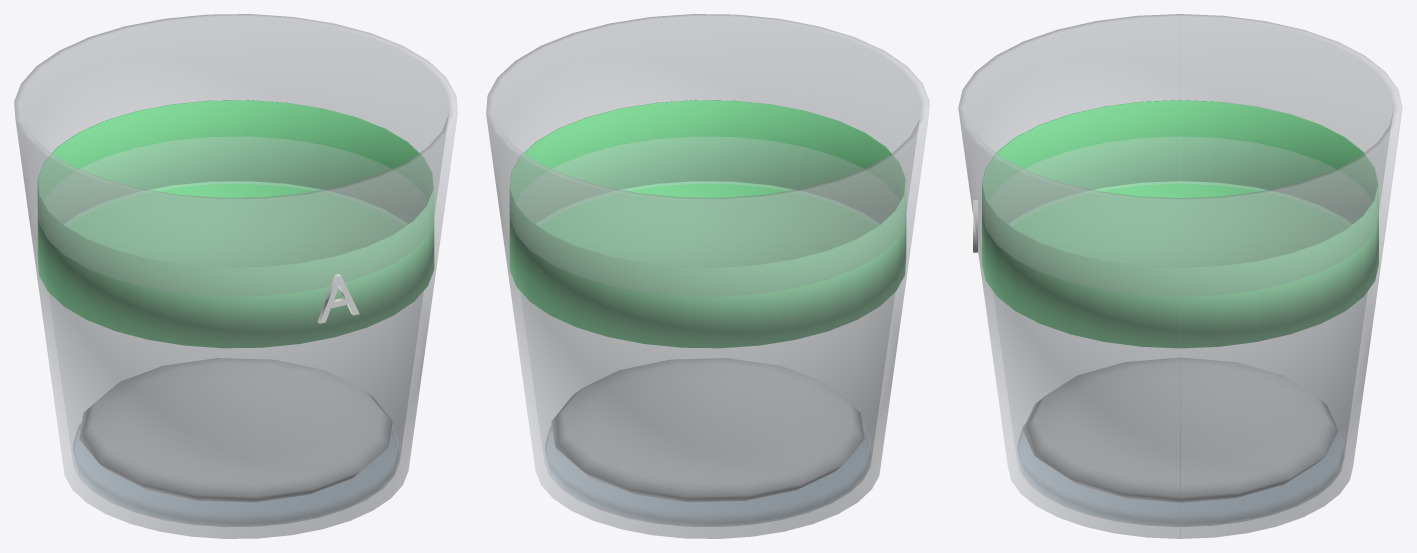
File: cup_A.glb
3 views of the same model, side by side, from view 1: azimuth 30°, elevation 25°; view 2: azimuth 150°, elevation 25°; view 3: azimuth 270°, elevation 25° (orthographic).
Parts seen in each view (by area): view 1: cupA_body, cupA_label, cotton, water_film, cupA_letter; view 2: cupA_body, cupA_label, cotton, water_film; view 3: cupA_body, cupA_label, cotton, water_film.
Part boxes in pixels (bbox=[...]): cupA_body: bbox=[14, 14, 457, 538]; cupA_label: bbox=[37, 100, 434, 348]; cotton: bbox=[79, 358, 392, 502]; water_film: bbox=[73, 423, 398, 525]; cupA_letter: bbox=[317, 274, 359, 323]; cupA_body: bbox=[486, 14, 929, 538]; cupA_label: bbox=[509, 100, 906, 348]; cotton: bbox=[551, 358, 864, 502]; water_film: bbox=[545, 423, 870, 525]; cupA_body: bbox=[958, 14, 1402, 538]; cupA_label: bbox=[982, 100, 1378, 348]; cotton: bbox=[1022, 357, 1338, 502]; water_film: bbox=[1018, 424, 1342, 525].
Bounding box in the file's own units: 0.09 × 0.08 × 0.09.
